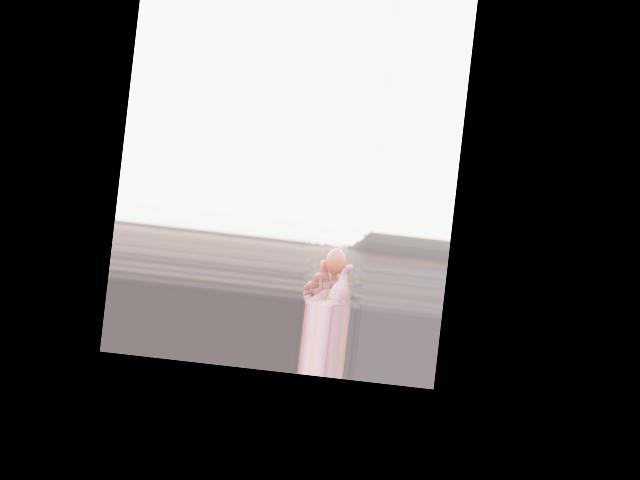egg: (323, 247, 347, 274)
